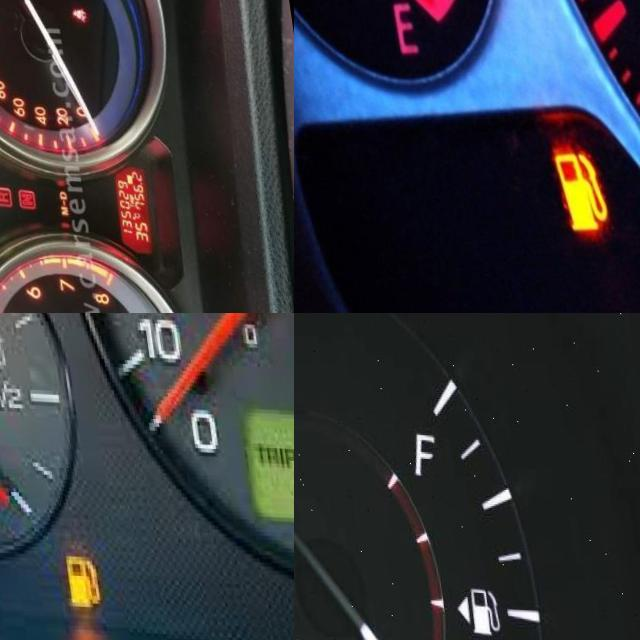Seat Belt: (67, 4, 84, 18)
